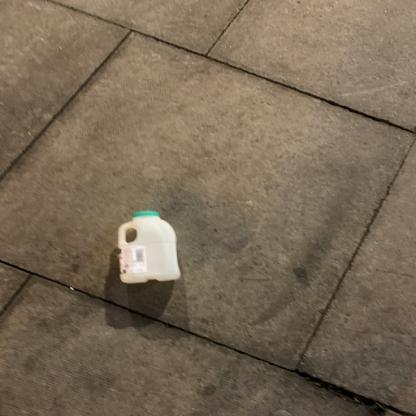trash: (113, 207, 188, 287)
